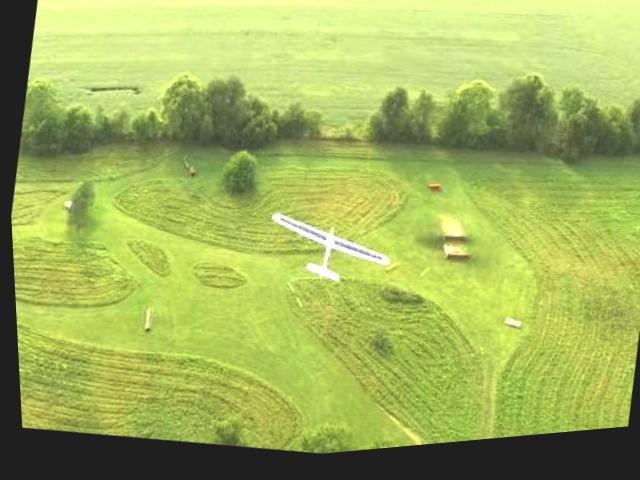uav: (255, 197, 400, 316)
